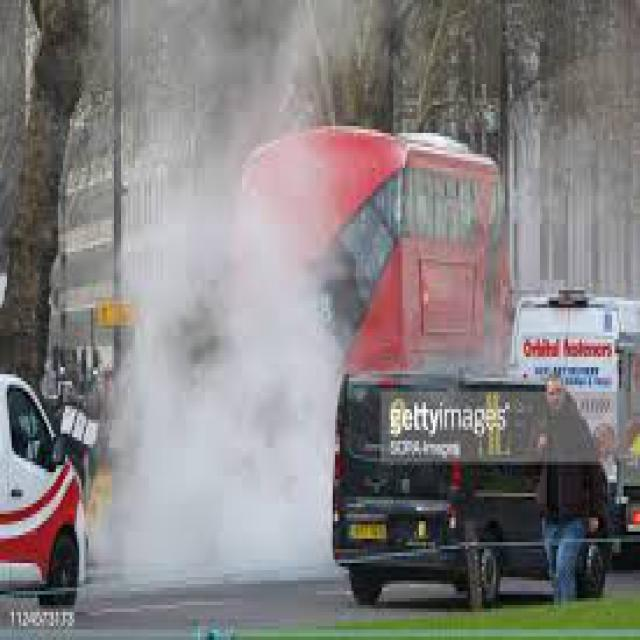smoke: (107, 154, 342, 584)
